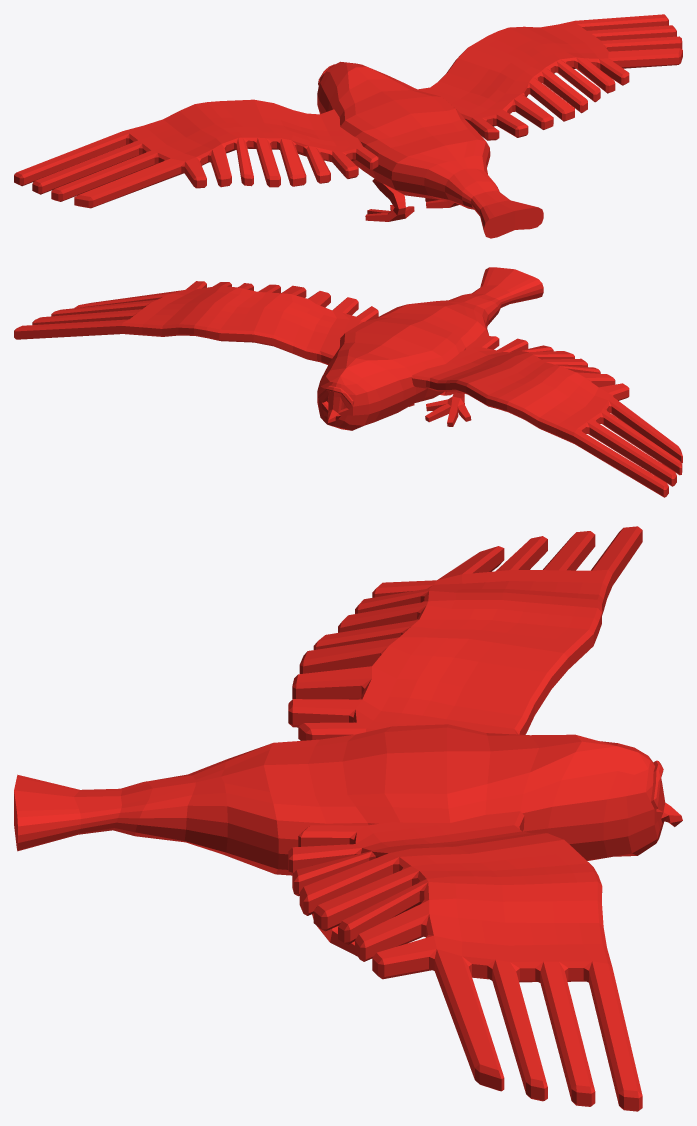
Rendered from bird_4.fbx.
The picture shows the model from 3 angles, top to bottom: view 1: azimuth 30°, elevation 25°; view 2: azimuth 150°, elevation 25°; view 3: azimuth 270°, elevation 25°; orthographic projection. The views are drawn at different scales.
Visible parts, largest first — view 1: Lewe_Skrzydlo, Prawe_Skrzydlo, Vert.002; view 2: Lewe_Skrzydlo, Vert.002, Prawe_Skrzydlo; view 3: Vert.002, Prawe_Skrzydlo, Lewe_Skrzydlo.
Part boxes in pixels (<box>): Lewe_Skrzydlo: <box>14,99,378,208</box>; Prawe_Skrzydlo: <box>418,14,682,140</box>; Vert.002: <box>317,61,543,238</box>; Lewe_Skrzydlo: <box>412,336,682,497</box>; Vert.002: <box>317,267,543,430</box>; Prawe_Skrzydlo: <box>14,281,378,364</box>; Vert.002: <box>14,724,682,956</box>; Prawe_Skrzydlo: <box>288,811,642,1111</box>; Lewe_Skrzydlo: <box>288,526,642,740</box>.
Size of the model in its own units: 299 by 43.22 by 149.
